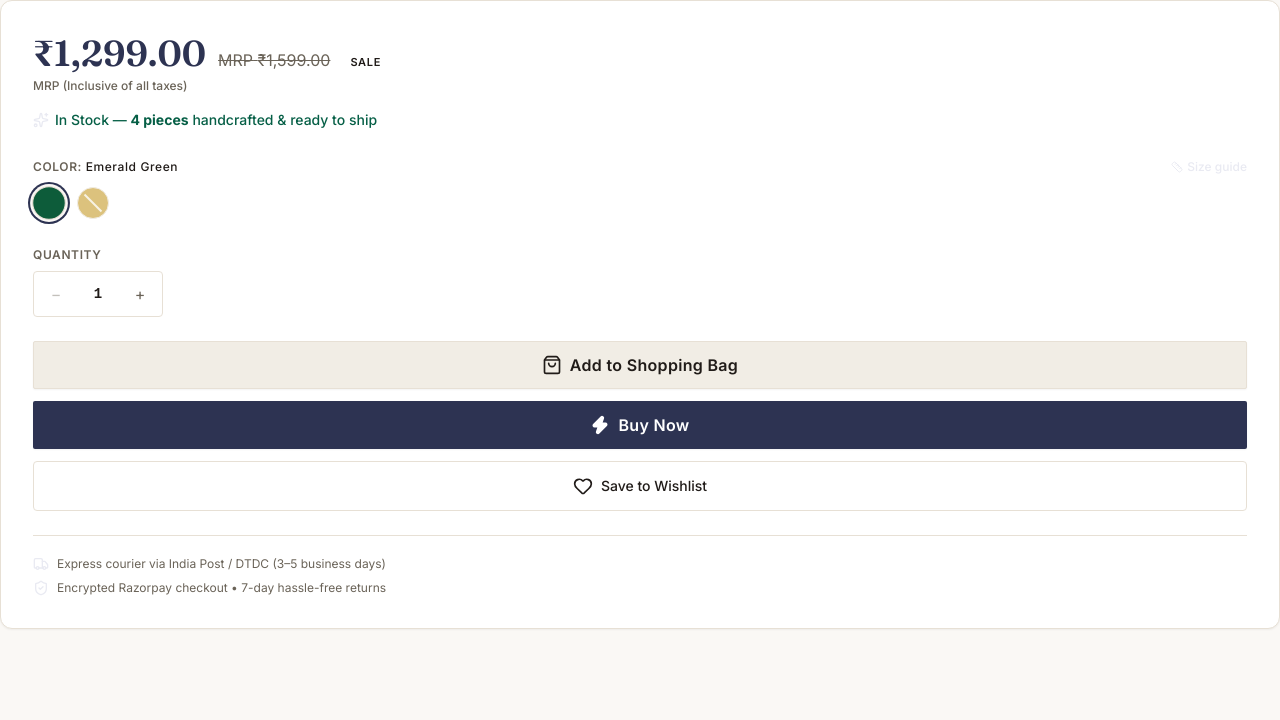
Scenario: ProductPurchaseCard Component › resets quantity to 1 when user switches between variants
Click the button named "Increase quantity": (140, 294) [118,272,162,316]
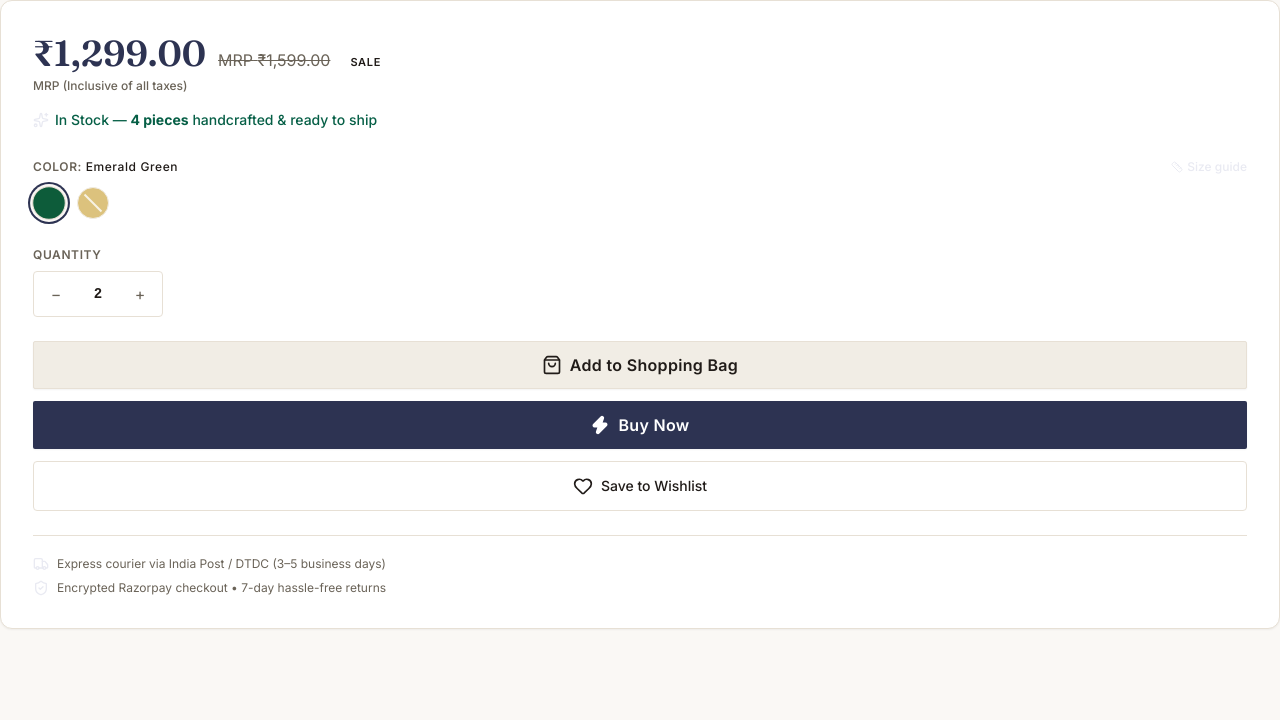
Expected: the text "2" is shown, [94,286,102,302]
// Switch to another variant and back
Click the button named "Royale Gold": (93, 203) [77,187,109,219]
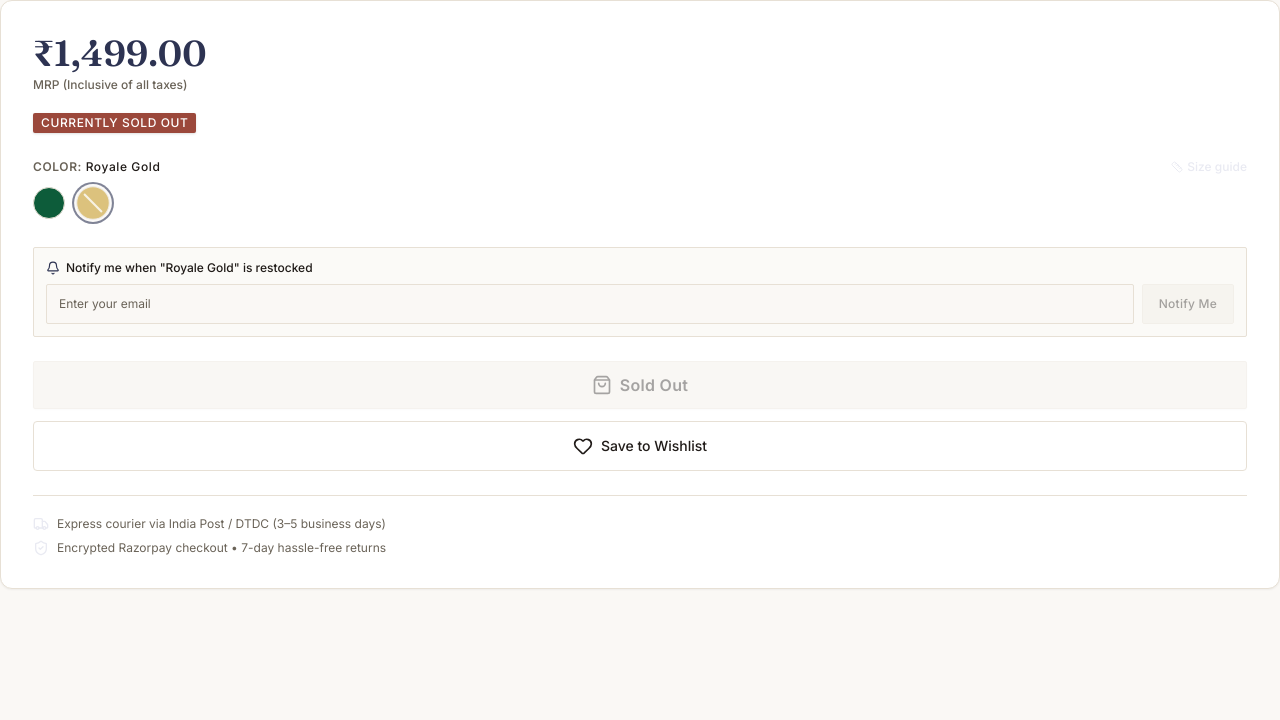
Click the button named "Emerald Green": (49, 203) [33,187,65,219]
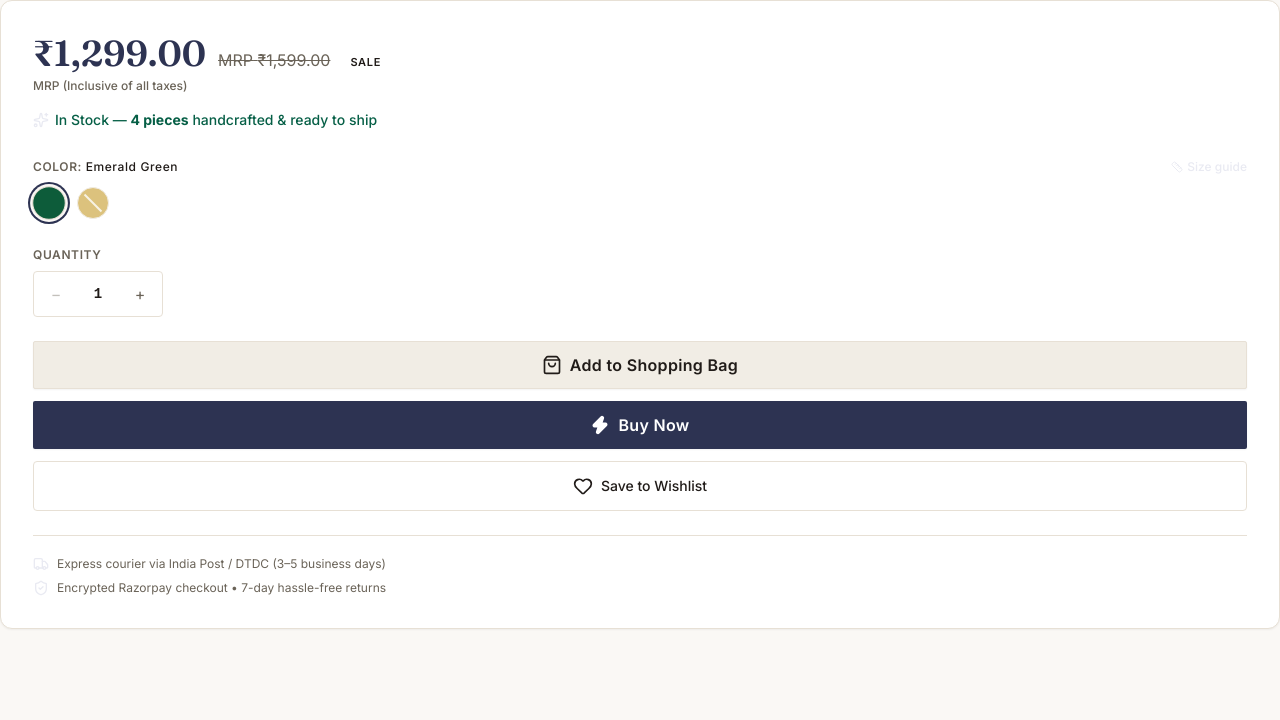
Expected: the text "1" is shown, [94,286,102,302]
